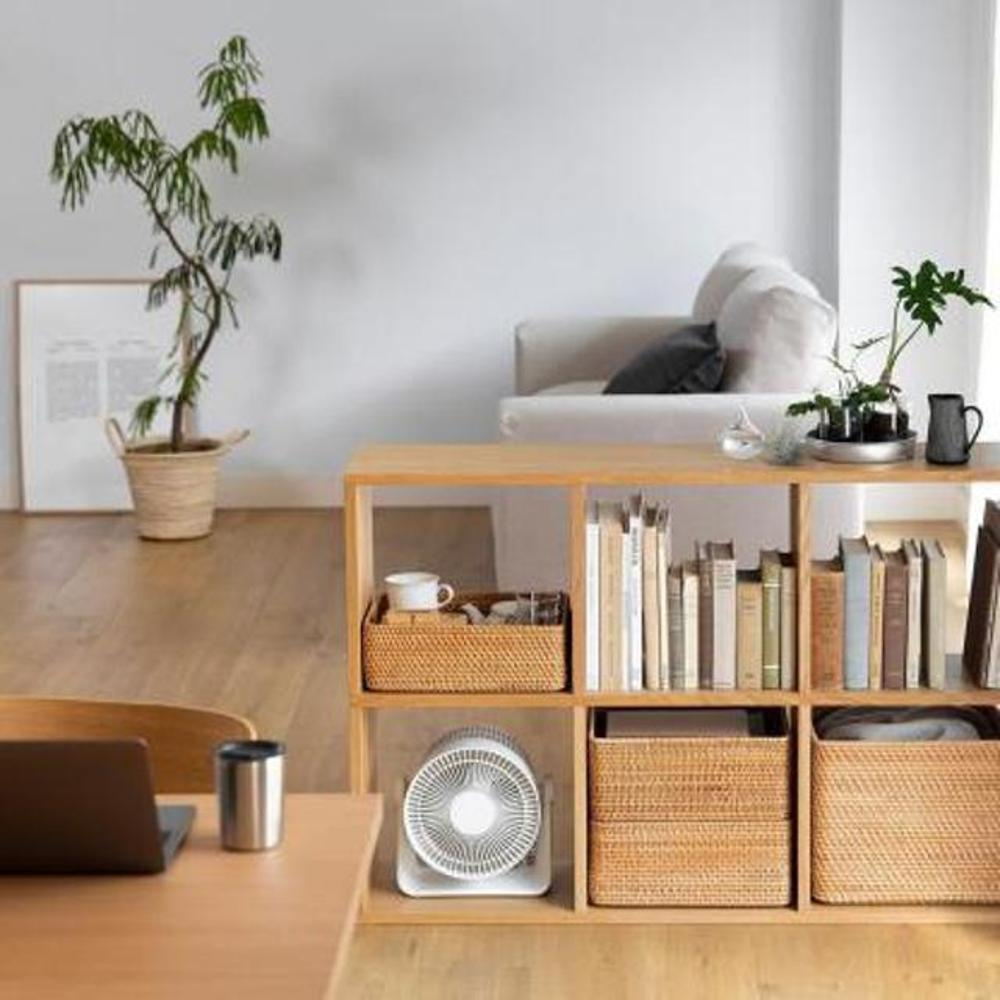lamp: (337, 438, 999, 925)
